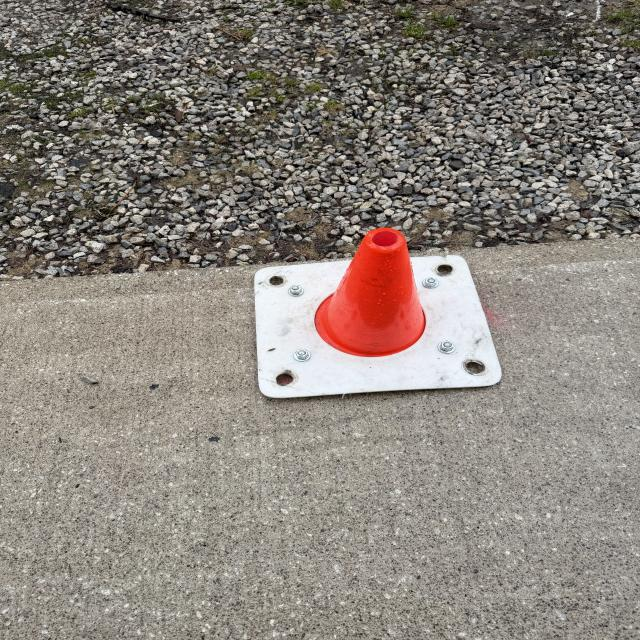Traffic Cone: (253, 228, 508, 402)
